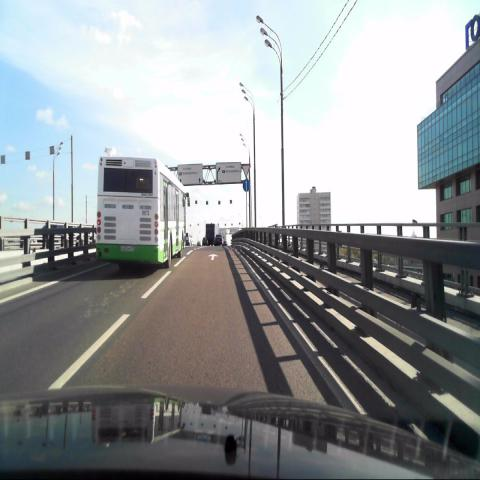2_4: (240, 162, 252, 178)
4_1_1: (243, 179, 250, 192)
